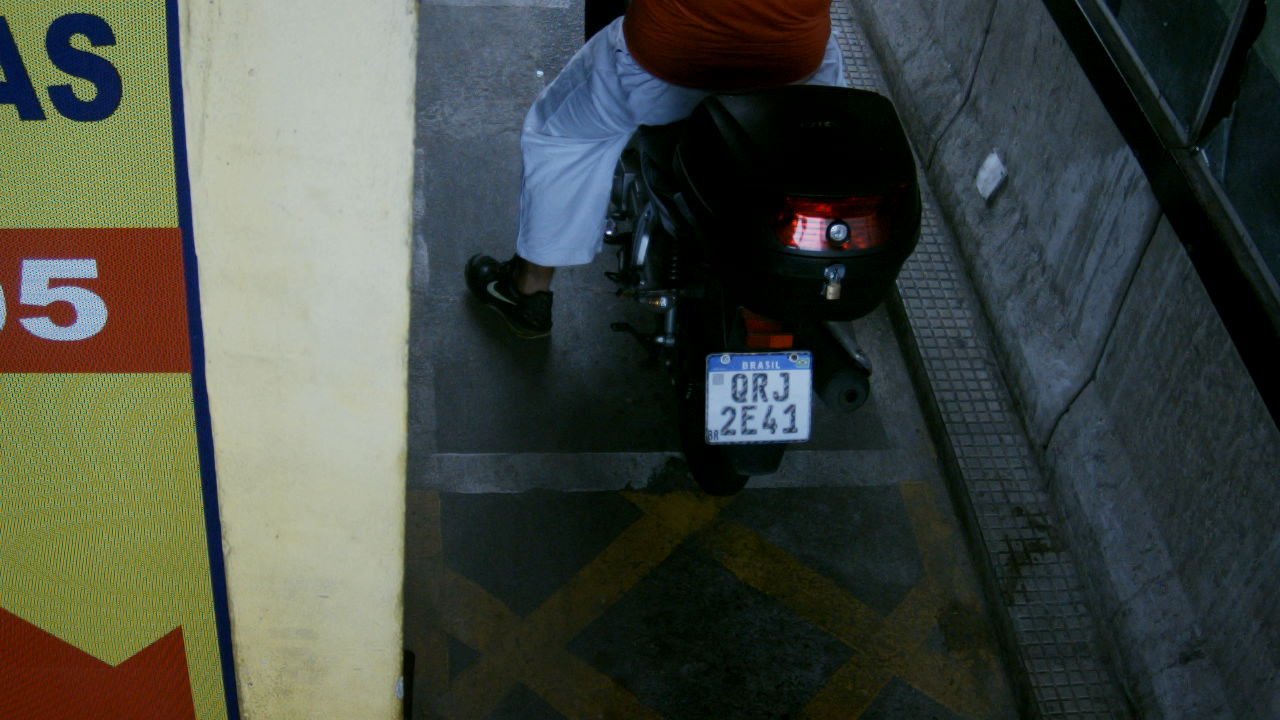placa: (705, 350, 813, 445)
